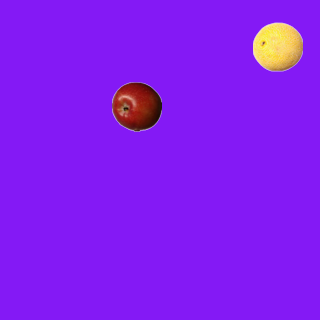Apple Braeburn: (111, 81, 161, 131)
Cantaloupe 1: (252, 21, 302, 71)
